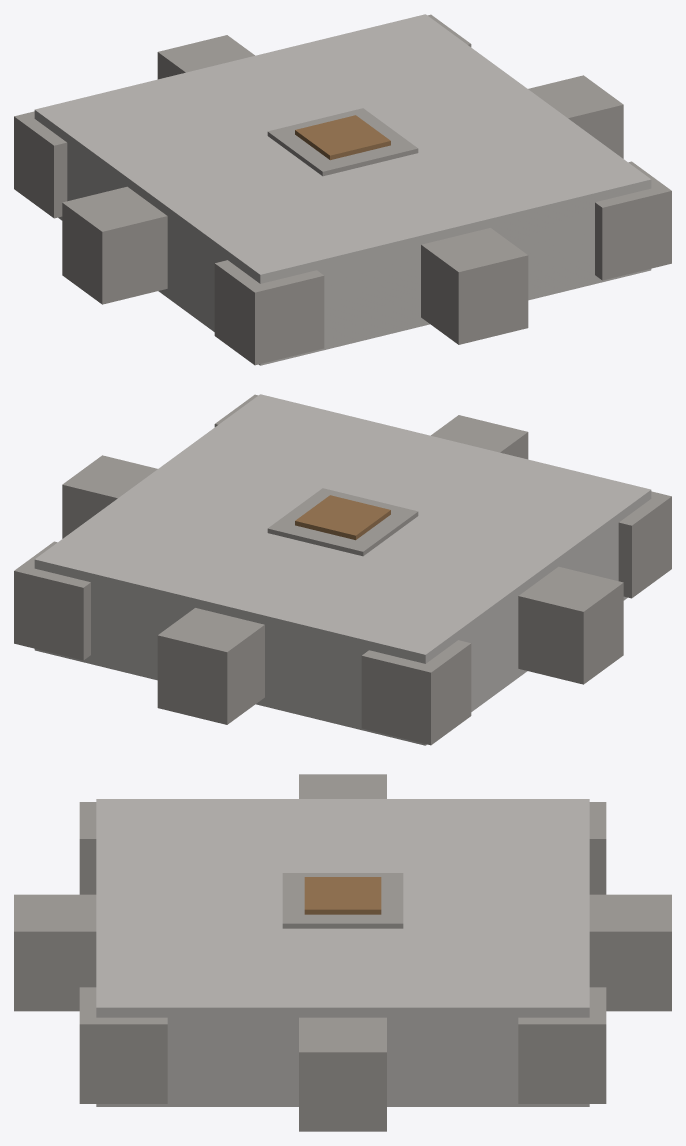
Rendered from millstone.glb.
3 renders of one model, top to bottom at view 1: azimuth 30°, elevation 25°; view 2: azimuth 150°, elevation 25°; view 3: azimuth 270°, elevation 25°, orthographic. The views are drawn at different scales.
Visible parts, largest first — view 1: built-millstone; view 2: built-millstone; view 3: built-millstone.
Boxes of the visible parts, box(x1,y1,x2,y2) form: built-millstone: box(14, 14, 671, 365); built-millstone: box(14, 394, 671, 745); built-millstone: box(14, 774, 671, 1131).
Bounding box in the file's own units: 1.2 × 0.22 × 1.2.
